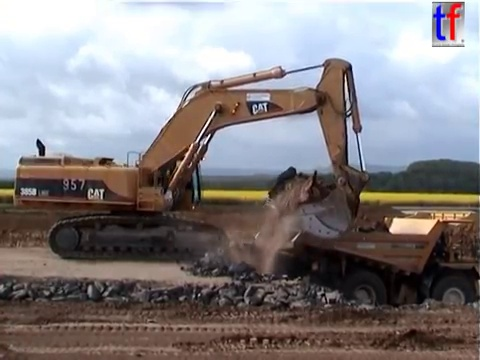excavator: (10, 55, 374, 264)
truck: (251, 203, 480, 325)
